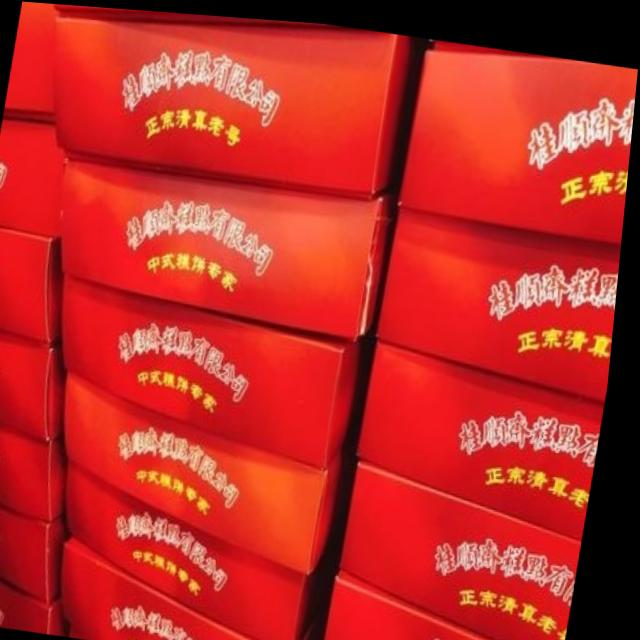box: (53, 8, 426, 194), (64, 155, 403, 336), (68, 274, 370, 465), (71, 370, 355, 571), (364, 333, 611, 531), (74, 458, 331, 640), (382, 201, 625, 392), (349, 450, 591, 640), (403, 42, 638, 235), (71, 535, 284, 640), (335, 561, 520, 640), (0, 500, 81, 605), (0, 328, 75, 440), (0, 120, 69, 235), (0, 226, 68, 341), (0, 422, 76, 518), (4, 1, 58, 122), (0, 571, 83, 635)
